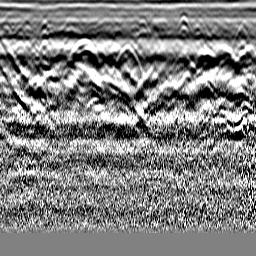cavity: (115, 41, 140, 68)
